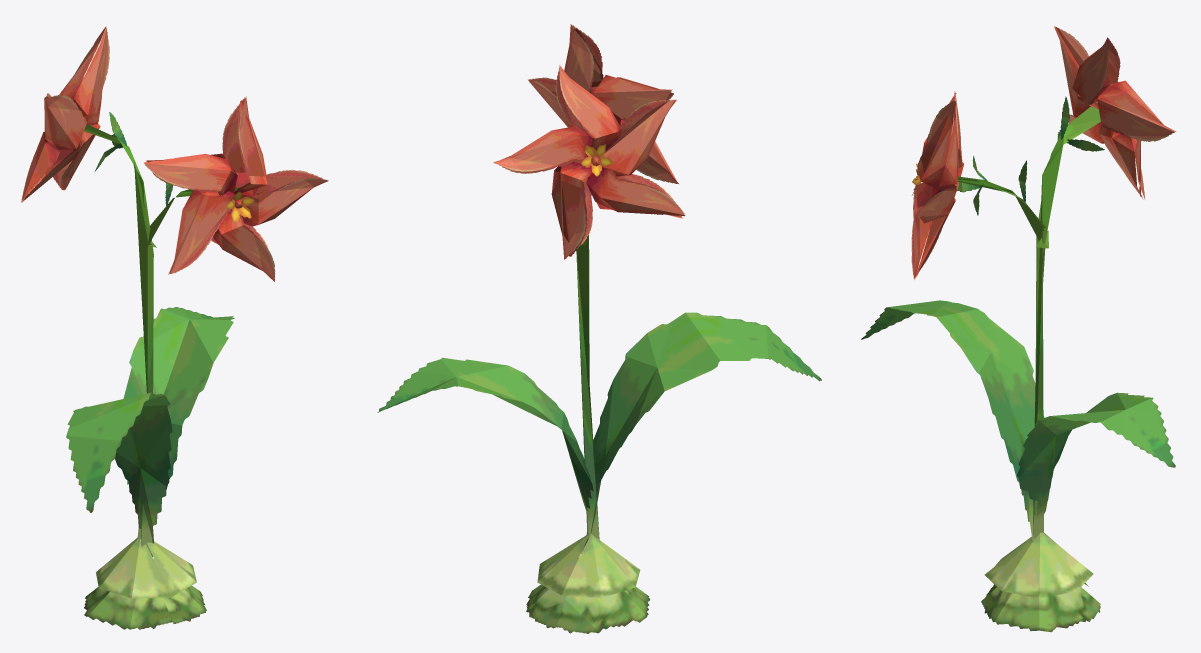
File: gi-WindmillDaisy02.glb
3 renders of one model, left to right at view 1: azimuth 30°, elevation 25°; view 2: azimuth 150°, elevation 25°; view 3: azimuth 270°, elevation 25°, orthographic.
Parts seen in each view (by area): view 1: gi-WindmillDaisy02; view 2: gi-WindmillDaisy02; view 3: gi-WindmillDaisy02.
Part boxes in pixels (bbox=[...]): gi-WindmillDaisy02: bbox=[21, 26, 328, 629]; gi-WindmillDaisy02: bbox=[377, 24, 821, 633]; gi-WindmillDaisy02: bbox=[861, 26, 1176, 632].
Size of the model in its own units: 0.4801 by 0.8758 by 0.4492.
1 material, 1 textured.
